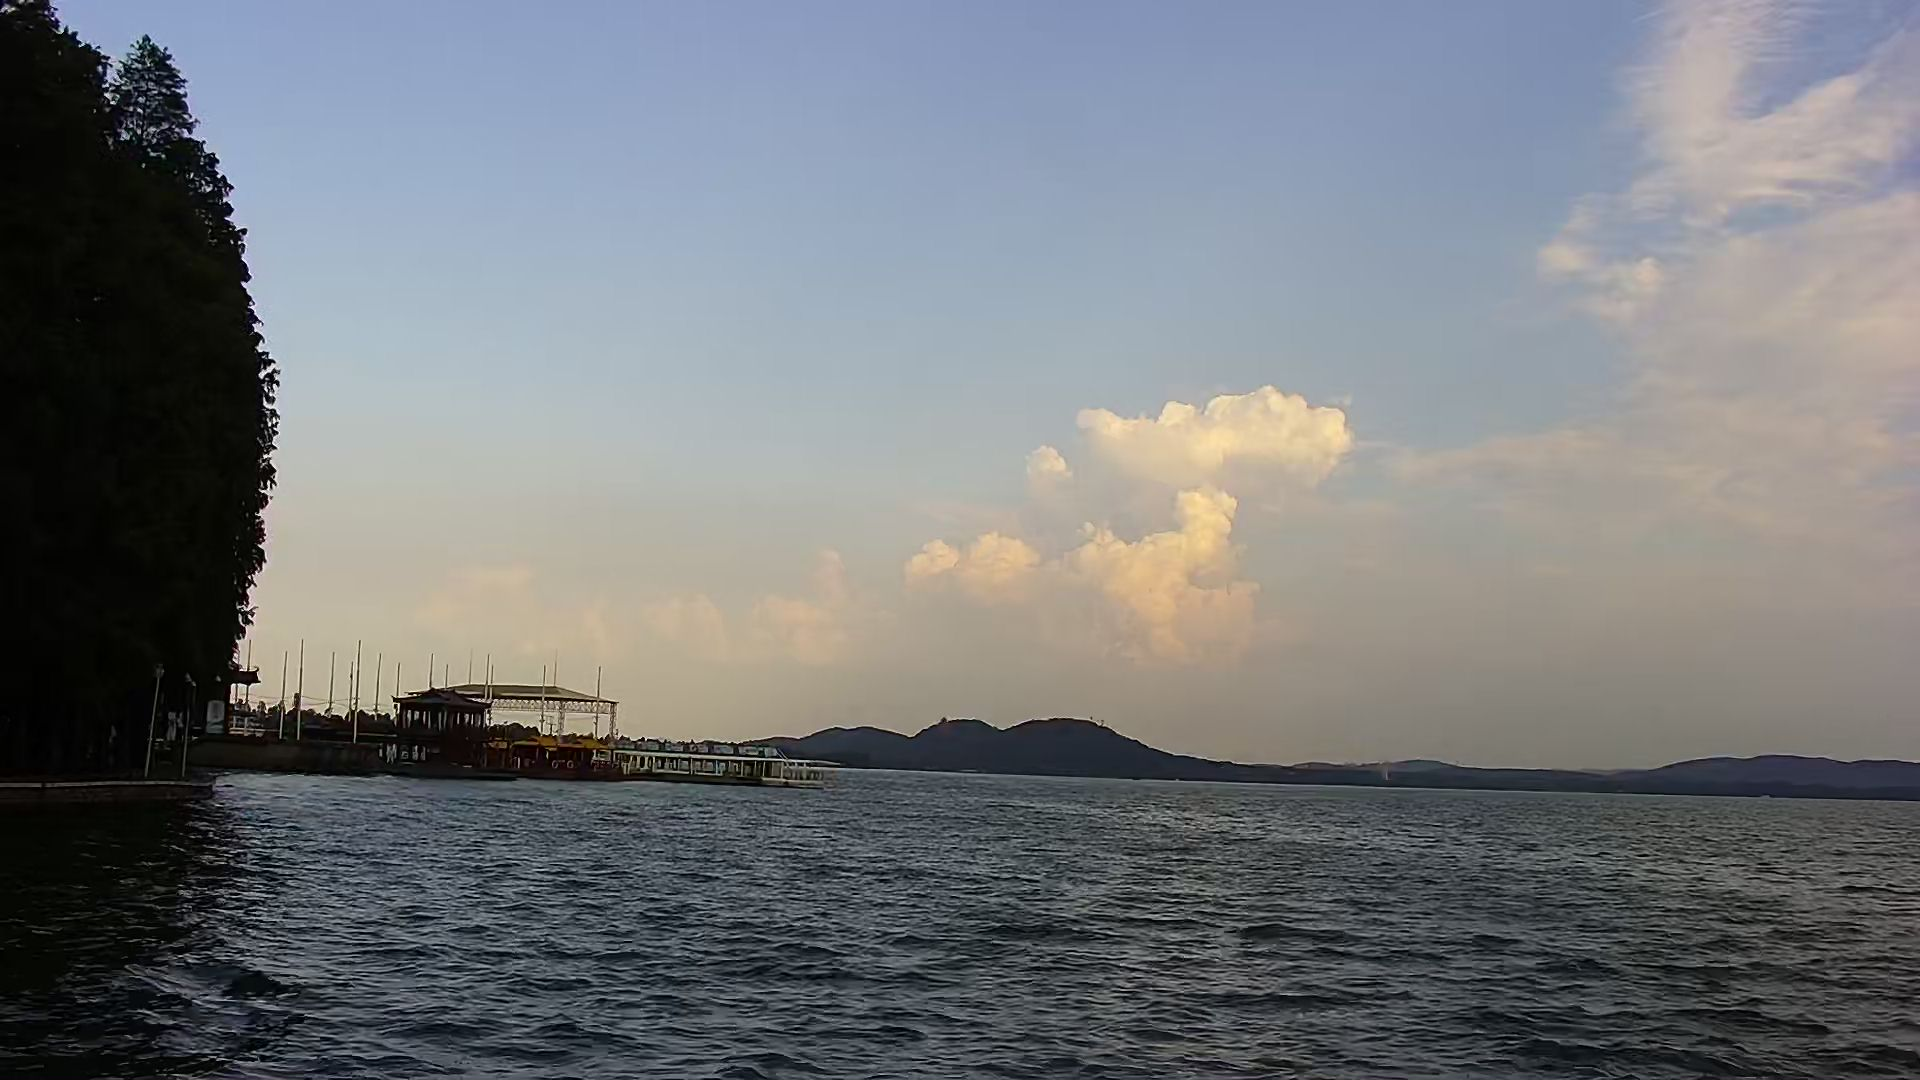boat: (616, 738, 825, 795)
